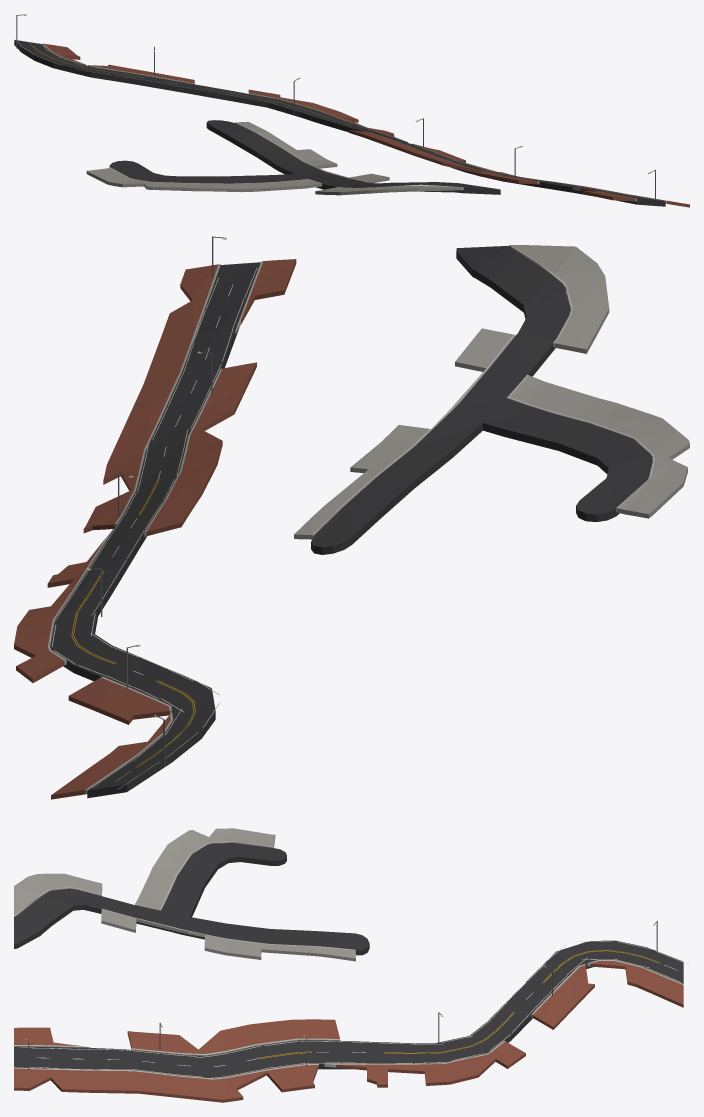
3 renders of one model, top to bottom at view 1: azimuth 30°, elevation 25°; view 2: azimuth 150°, elevation 25°; view 3: azimuth 270°, elevation 25°, orthographic. The views are drawn at different scales.
Size of the model in its own units: 109 by 30.5 by 147.
